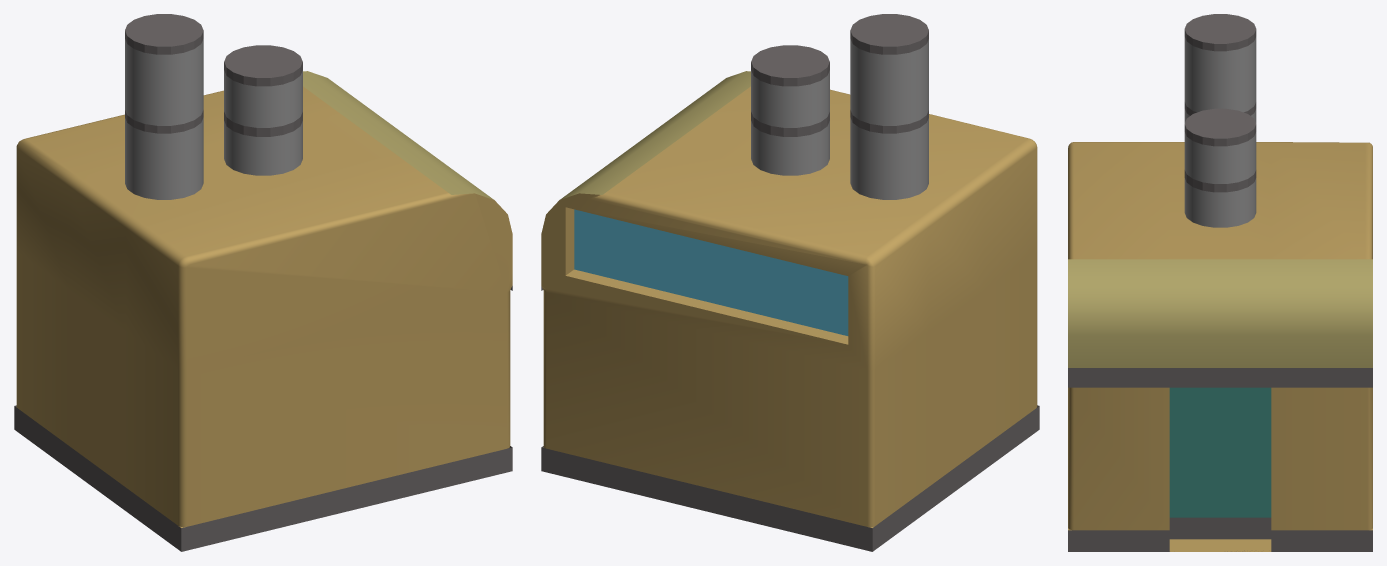
The model's file is water purification module.fbx.
The picture shows the model from 3 angles, left to right: view 1: azimuth 30°, elevation 25°; view 2: azimuth 150°, elevation 25°; view 3: azimuth 270°, elevation 25°; orthographic projection. The views are drawn at different scales.
Visible parts, largest first — view 1: body, frame.001, Cylinder.001, Cylinder, ön, frame.002, frame.003; view 2: body, window, frame.001, Cylinder.001, Cylinder, ön, frame.002, frame.003; view 3: body, ön, door, frame.001, frame, Cylinder, Cylinder.001, frame.002, frame.003.
Boxes of the visible parts, x1,y1,x2,y2 form: body: (16, 86, 512, 527); frame.001: (14, 405, 512, 551); Cylinder.001: (125, 39, 203, 199); Cylinder: (224, 70, 302, 175); ön: (303, 71, 493, 199); frame.002: (224, 45, 302, 136); frame.003: (125, 14, 203, 133); body: (541, 86, 1037, 527); window: (574, 209, 848, 335); frame.001: (541, 405, 1039, 551); Cylinder.001: (850, 39, 928, 199); Cylinder: (751, 70, 829, 175); ön: (560, 71, 750, 199); frame.002: (751, 45, 829, 136); frame.003: (850, 14, 928, 133); body: (1068, 142, 1372, 551); ön: (1068, 259, 1372, 367); door: (1169, 387, 1271, 517); frame.001: (1068, 517, 1372, 551); frame: (1068, 368, 1372, 387); Cylinder: (1184, 132, 1256, 227); Cylinder.001: (1184, 37, 1256, 122); frame.002: (1184, 108, 1256, 192); frame.003: (1184, 14, 1256, 115).
Bounding box in the file's own units: 200 × 256 × 175.
6 materials, 6 textured.
